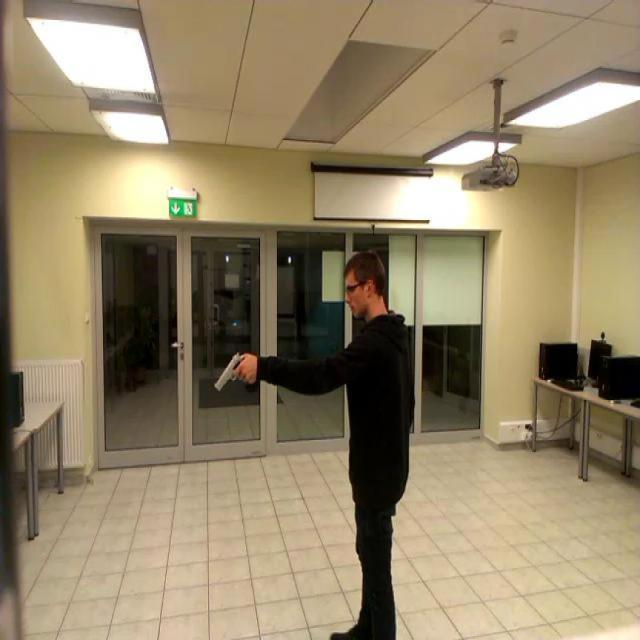pistol: (215, 350, 250, 390)
